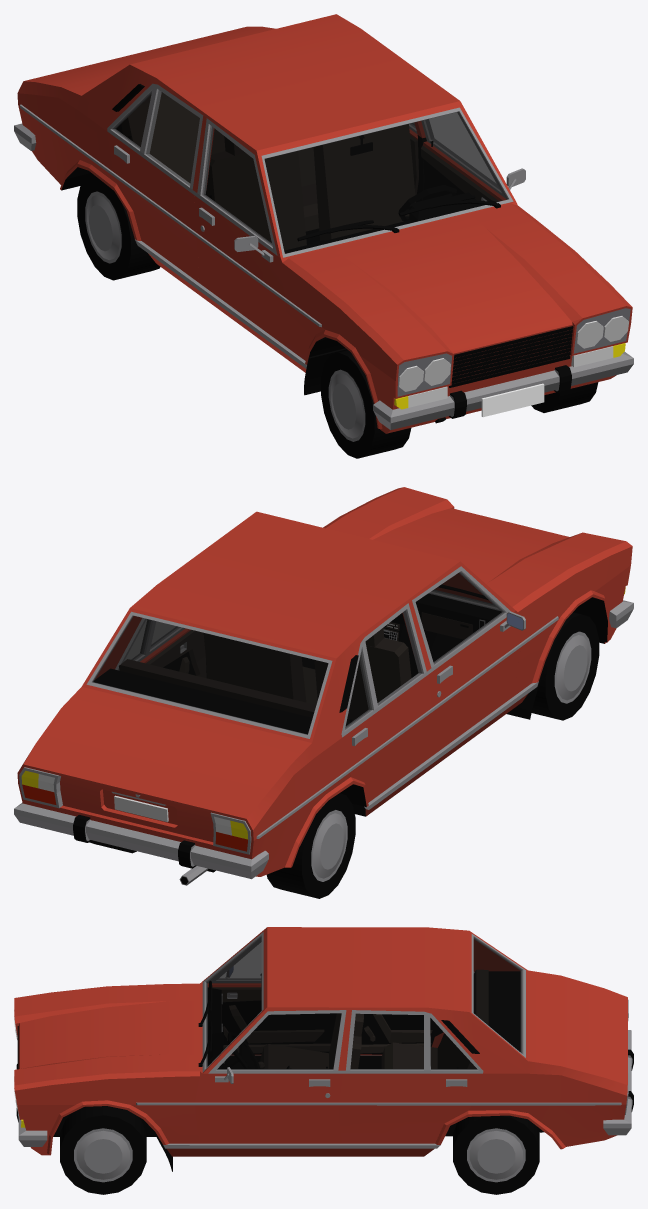
Rendered from Car03.fbx.
3 renders of one model, top to bottom at view 1: azimuth 30°, elevation 25°; view 2: azimuth 150°, elevation 25°; view 3: azimuth 270°, elevation 25°, orthographic. The views are drawn at different scales.
Visible parts, largest first — view 1: mdl_car02_body, mdl_car02_door_FR, mdl_car02_door_BR, mdl_car02_wheel_FR, mdl_car02_wheel_BR, mdl_car02_door_FL, mdl_car02_wheel_FL; view 2: mdl_car02_body, mdl_car02_door_FR, mdl_car02_door_BR, mdl_car02_wheel_BR, mdl_car02_wheel_FR, mdl_car02_door_BL; view 3: mdl_car02_body, mdl_car02_door_FL, mdl_car02_door_BL, mdl_car02_wheel_FL, mdl_car02_wheel_BL, mdl_car02_door_FR, mdl_car02_door_BR, mdl_car02_steering_wheel.
Boxes of the visible parts, x1,y1,x2,y2 form: mdl_car02_body: (14, 14, 633, 433); mdl_car02_door_FR: (194, 118, 286, 346); mdl_car02_door_BR: (107, 83, 203, 282); mdl_car02_wheel_FR: (321, 350, 411, 458); mdl_car02_wheel_BR: (77, 174, 160, 280); mdl_car02_door_FL: (421, 112, 525, 201); mdl_car02_wheel_FL: (531, 382, 598, 412); mdl_car02_body: (14, 487, 633, 885); mdl_car02_door_FR: (412, 566, 525, 760); mdl_car02_door_BR: (341, 603, 433, 802); mdl_car02_wheel_BR: (266, 793, 355, 898); mdl_car02_wheel_FR: (531, 612, 599, 720); mdl_car02_door_BL: (115, 618, 206, 677); mdl_car02_body: (14, 927, 633, 1171); mdl_car02_door_FL: (195, 1010, 346, 1143); mdl_car02_door_BL: (338, 1010, 483, 1143); mdl_car02_wheel_FL: (60, 1106, 146, 1194); mdl_car02_wheel_BL: (453, 1115, 539, 1194); mdl_car02_door_FR: (208, 938, 334, 1054); mdl_car02_door_BR: (360, 972, 474, 1055); mdl_car02_steering_wheel: (228, 1032, 260, 1068).
Bounding box in the file's own units: 197 × 147 × 451.
